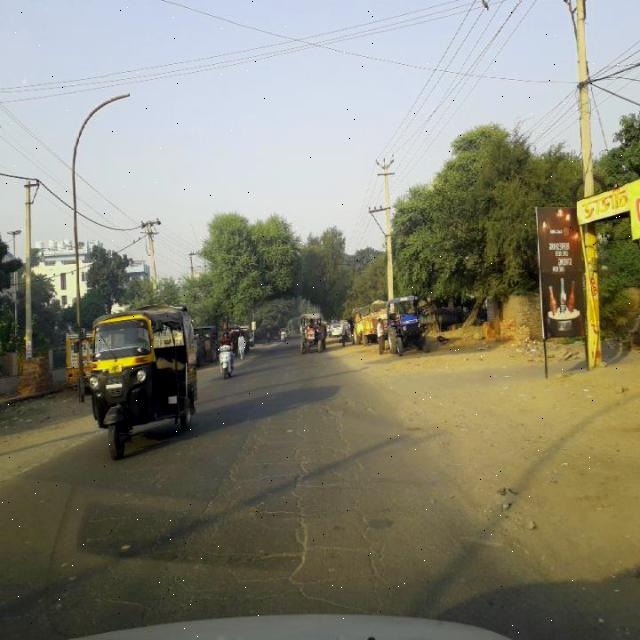D20: (186, 392, 394, 610)
